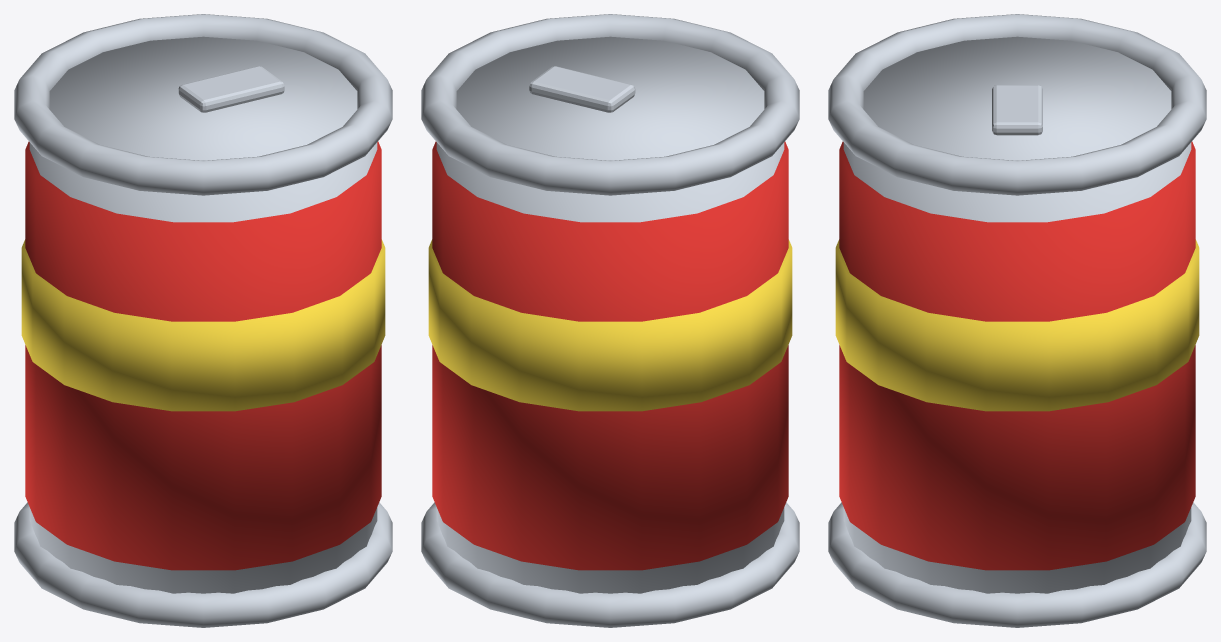
Rendered from tin-can.glb.
The picture shows the model from 3 angles, left to right: view 1: azimuth 30°, elevation 25°; view 2: azimuth 150°, elevation 25°; view 3: azimuth 270°, elevation 25°; orthographic projection.
Visible parts, largest first — view 1: CanLabel, CanBody, CanStripe, RimTop, RimBot, PullTab; view 2: CanLabel, CanBody, CanStripe, RimTop, RimBot, PullTab; view 3: CanLabel, CanBody, CanStripe, RimTop, RimBot, PullTab.
Part boxes in pixels (<box>): CanLabel: <box>25,141,381,570</box>; CanBody: <box>29,36,377,593</box>; CanStripe: <box>21,239,385,411</box>; RimTop: <box>14,14,392,195</box>; RimBot: <box>14,502,392,627</box>; PullTab: <box>178,66,284,112</box>; CanLabel: <box>432,141,788,570</box>; CanBody: <box>436,36,784,593</box>; CanStripe: <box>428,239,792,411</box>; RimTop: <box>421,14,799,195</box>; RimBot: <box>421,502,799,627</box>; PullTab: <box>529,66,635,112</box>; CanLabel: <box>839,141,1195,570</box>; CanBody: <box>843,36,1191,593</box>; CanStripe: <box>835,239,1199,411</box>; RimTop: <box>828,14,1206,195</box>; RimBot: <box>828,502,1206,627</box>; PullTab: <box>992,85,1042,135</box>.
Bounding box in the file's own units: 0.166 × 0.222 × 0.1635.
